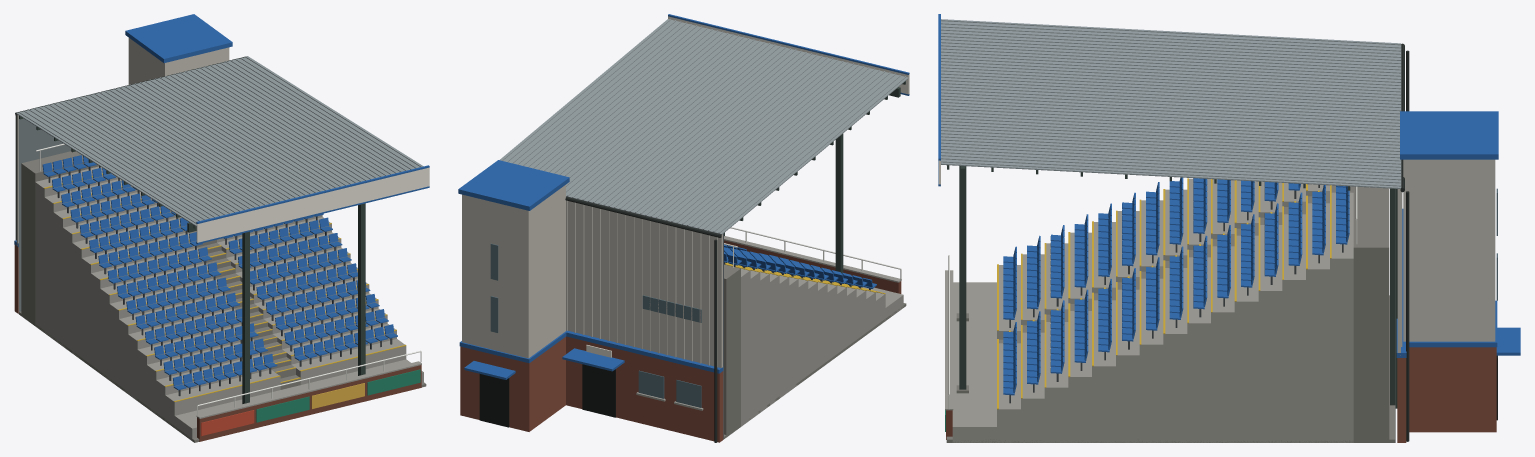
File: main_stand_15.glb
3 renders of one model, left to right at view 1: azimuth 30°, elevation 25°; view 2: azimuth 150°, elevation 25°; view 3: azimuth 270°, elevation 25°, orthographic. The views are drawn at different scales.
Visible parts, largest first — view 1: Main_Corrugated_Sheet, Main_Concrete, Main_Club_Primary_Seats, Main_Concrete_Dark, Main_Club_Secondary_Fascia, Main_Club_Primary_Trim, Main_Steel_Frame, Main_Seat_Bracket, Main_Front_Wall, Main_Rear_Cladding, Main_Corrugated_Underside, Main_Step_Edge_Yellow (+5 smaller); view 2: Main_Corrugated_Sheet, Main_Rear_Cladding, Main_Concrete, Main_Rear_Brick, Main_Club_Primary_Trim, Main_Concrete_Dark, Main_Shadow_Gap, Main_Window_Glass, Main_Club_Primary_Seats, Main_Gutter, Main_Steel_Frame, Main_Club_Secondary_Fascia (+3 smaller); view 3: Main_Concrete, Main_Corrugated_Sheet, Main_Club_Primary_Seats, Main_Rear_Cladding, Main_Concrete_Dark, Main_Rear_Brick, Main_Club_Primary_Trim, Main_Step_Edge_Yellow, Main_Steel_Frame, Main_Gutter, Main_Corrugated_Underside, Main_Seat_Bracket.
Boxes of the visible parts, x1,y1,x2,y2 form: Main_Corrugated_Sheet: (16,56,423,226); Main_Concrete: (35,166,423,439); Main_Club_Primary_Seats: (42,155,397,390); Main_Concrete_Dark: (19,151,426,442); Main_Club_Secondary_Fascia: (196,167,429,242); Main_Club_Primary_Trim: (14,14,429,247); Main_Steel_Frame: (19,116,365,403); Main_Seat_Bracket: (48,166,392,396); Main_Front_Wall: (197,365,421,441); Main_Rear_Cladding: (16,38,229,245); Main_Corrugated_Underside: (17,114,195,313); Main_Step_Edge_Yellow: (44,173,406,401); Main_Corrugated_Sheet: (499,19,908,234); Main_Rear_Cladding: (462,185,722,367); Main_Concrete: (636,236,903,426); Main_Rear_Brick: (460,336,723,442); Main_Club_Primary_Trim: (458,14,909,379); Main_Concrete_Dark: (724,264,906,438); Main_Shadow_Gap: (479,364,615,427); Main_Window_Glass: (490,243,701,407); Main_Club_Primary_Seats: (724,244,876,288); Main_Gutter: (565,196,721,442); Main_Steel_Frame: (724,81,905,273); Main_Club_Secondary_Fascia: (586,16,909,357); Main_Concrete: (945,178,1353,442); Main_Corrugated_Sheet: (941,19,1401,188); Main_Club_Primary_Seats: (1003,177,1349,395); Main_Rear_Cladding: (1397,159,1495,355); Main_Concrete_Dark: (946,185,1395,442); Main_Rear_Brick: (1397,347,1496,442); Main_Club_Primary_Trim: (938,14,1520,357); Main_Step_Edge_Yellow: (997,178,1331,409); Main_Steel_Frame: (947,165,1397,408); Main_Gutter: (1400,43,1409,441); Main_Corrugated_Underside: (941,164,1400,442); Main_Seat_Bracket: (1009,184,1343,403).
Size of the model in its own units: 11.52 by 10.56 by 19.59.
